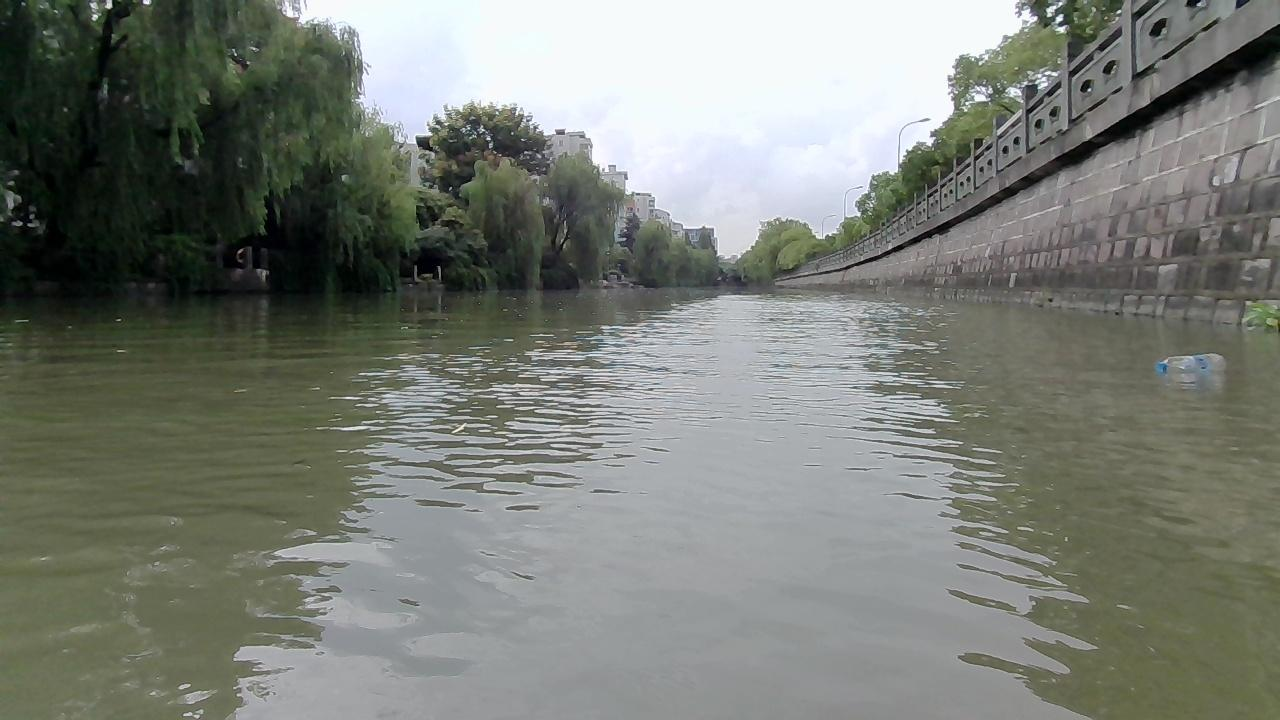bottle: (1152, 350, 1226, 371)
